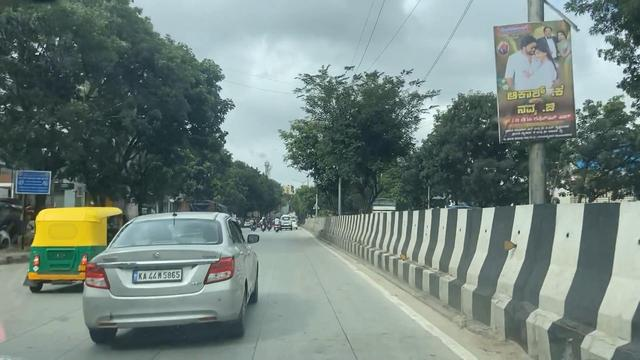LMV: (91, 211, 265, 329), (18, 206, 114, 285)
